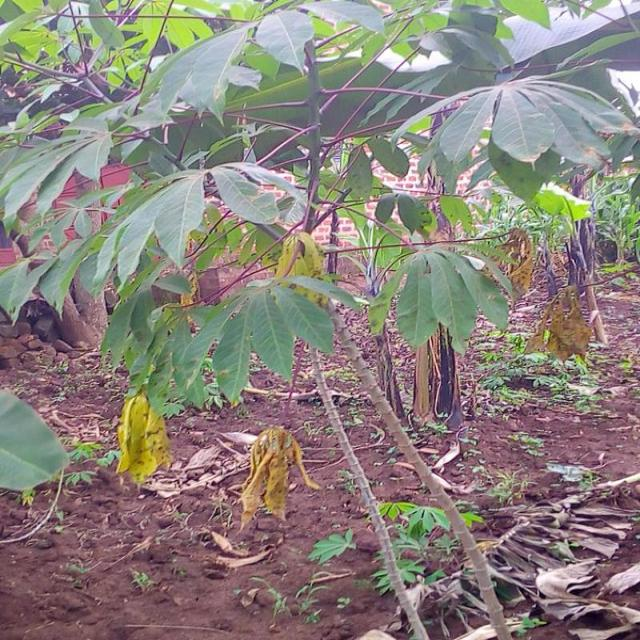cassava leaf: (1, 388, 70, 493)
